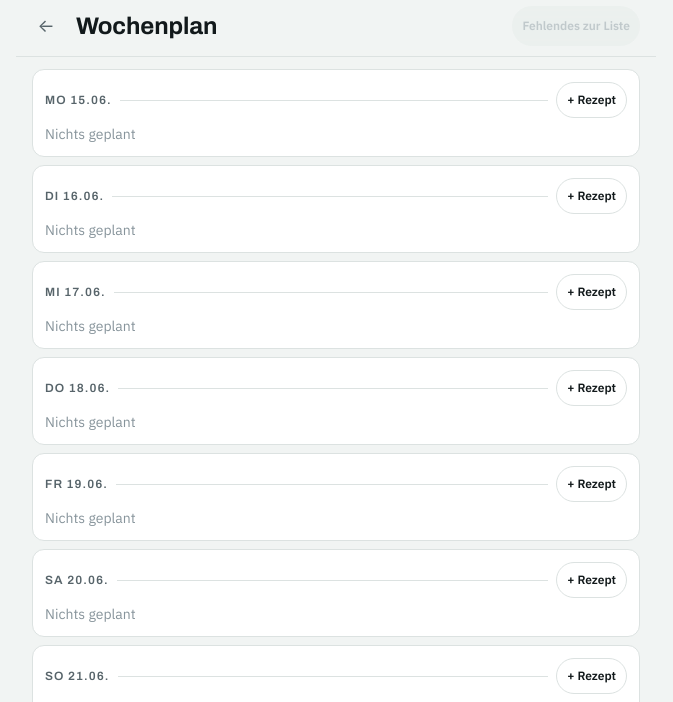
Test: MealPlan › adding a recipe to a day › says when the search matches nothing
Click the button "+ Rezept" in the row of "Mo 15.06.": (592, 100) [556,82,627,118]
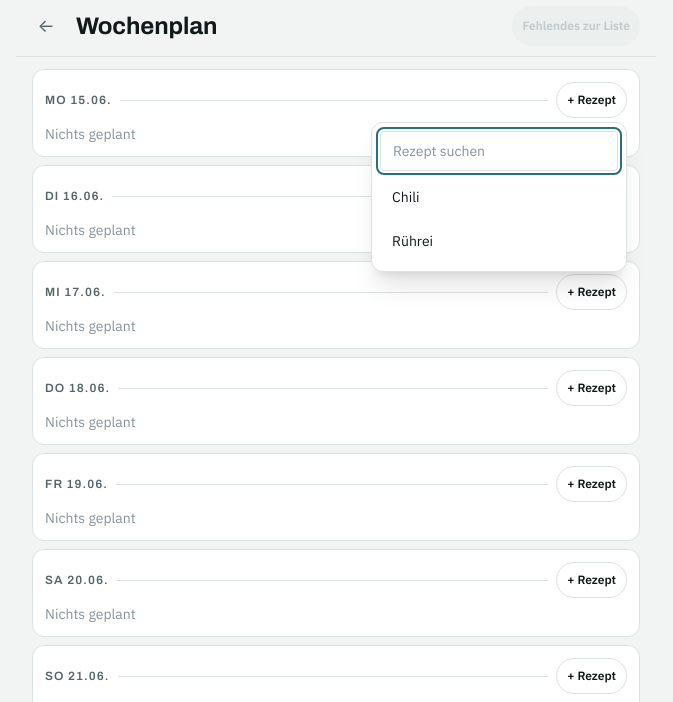
In the search field labelled "Rezept suchen": (499, 151) [380,131,618,171], type "Pizza"
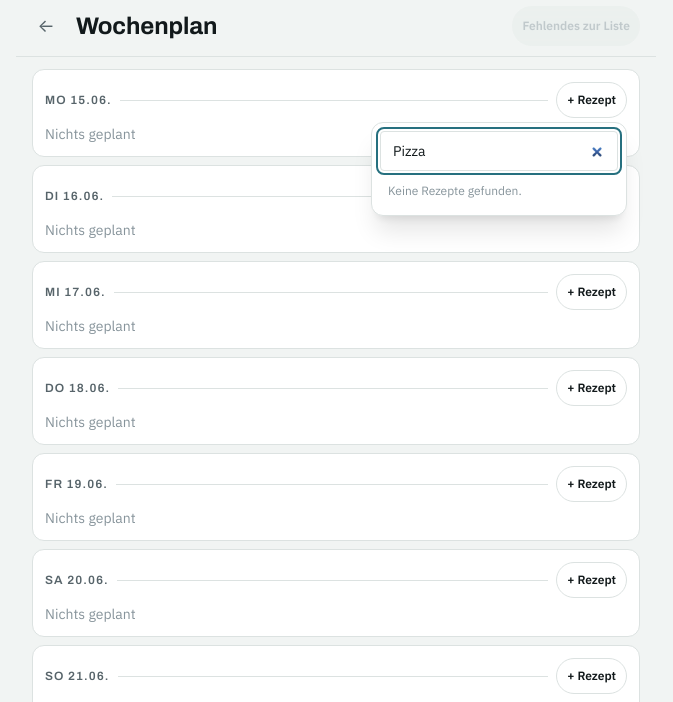
Expected: the list item "Keine Rezepte gefunden." is shown, [388,183,522,198]
